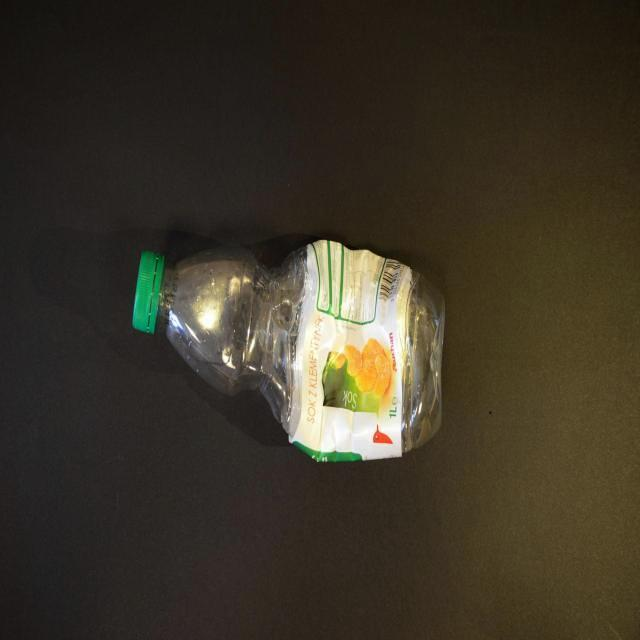bottle: (131, 240, 458, 463)
